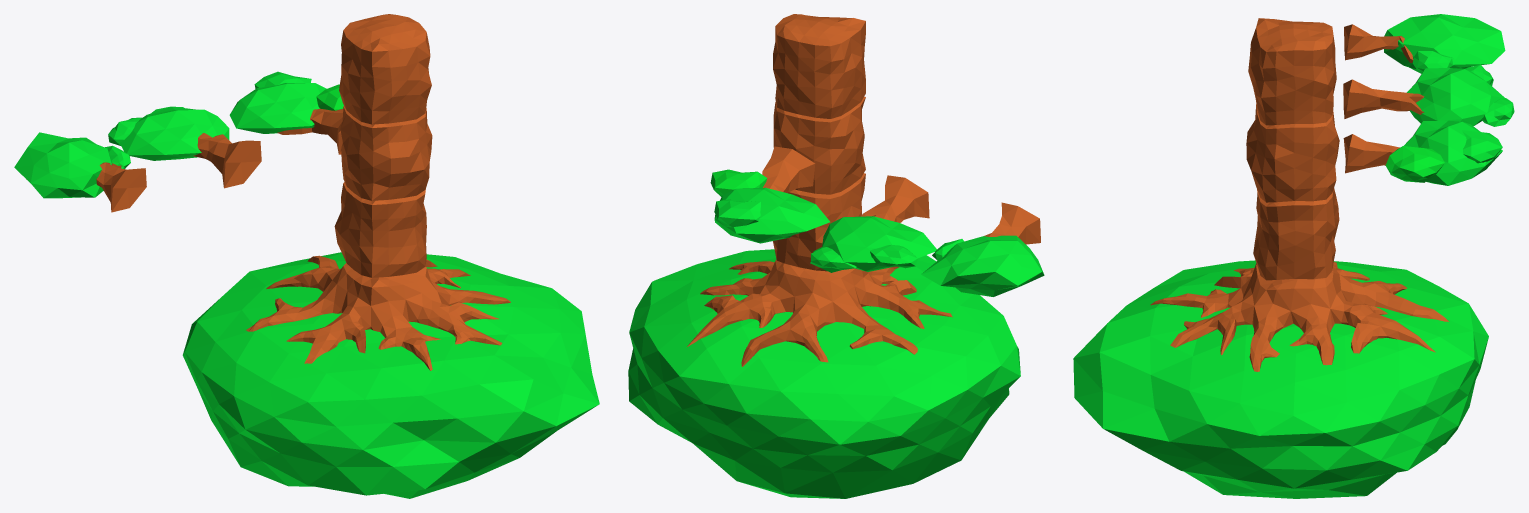
Rendered from TreeUnity.fbx.
3 renders of one model, left to right at view 1: azimuth 30°, elevation 25°; view 2: azimuth 150°, elevation 25°; view 3: azimuth 270°, elevation 25°, orthographic.
Parts seen in each view (by area): view 1: Icosphere, Cube, Cube.001, Cube.003, Cube.002, Icosphere.007, Icosphere.003, Icosphere.006, Cube.005, Cube.006, Cube.004; view 2: Icosphere, Cube, Cube.001, Icosphere.003, Cube.003, Icosphere.007, Icosphere.006, Cube.002, Cube.005, Cube.004, Cube.006; view 3: Icosphere, Cube, Cube.001, Cube.003, Cube.002, Icosphere.003, Icosphere.007, Icosphere.006, Cube.005, Cube.006, Cube.004.
Boxes of the visible parts, x1,y1,x2,y2 form: Icosphere: (182,252,599,498); Cube: (246,255,510,370); Cube.001: (339,14,431,124); Cube.003: (340,106,432,200); Cube.002: (334,182,426,277); Icosphere.007: (14,132,130,198); Icosphere.003: (229,71,343,133); Icosphere.006: (108,106,229,160); Cube.005: (193,133,261,188); Cube.006: (26,162,146,212); Cube.004: (277,108,343,154); Icosphere: (628,249,1020,498); Cube: (687,260,952,366); Cube.001: (773,14,865,118); Icosphere.003: (710,169,830,243); Cube.003: (773,96,865,194); Icosphere.007: (921,235,1044,296); Icosphere.006: (810,216,936,272); Cube.002: (773,173,865,271); Cube.005: (861,175,929,222); Cube.004: (762,146,815,193); Cube.006: (984,202,1040,280); Icosphere: (1073,260,1488,498); Cube: (1150,261,1448,371); Cube.001: (1248,18,1336,125); Cube.003: (1246,104,1339,202); Cube.002: (1253,188,1339,280); Icosphere.003: (1385,120,1502,185); Icosphere.007: (1384,14,1505,73); Icosphere.006: (1407,64,1514,126); Cube.005: (1343,79,1424,118); Cube.006: (1344,24,1413,63); Cube.004: (1343,134,1399,173).
Size of the model in its own units: 990 by 869 by 798.
